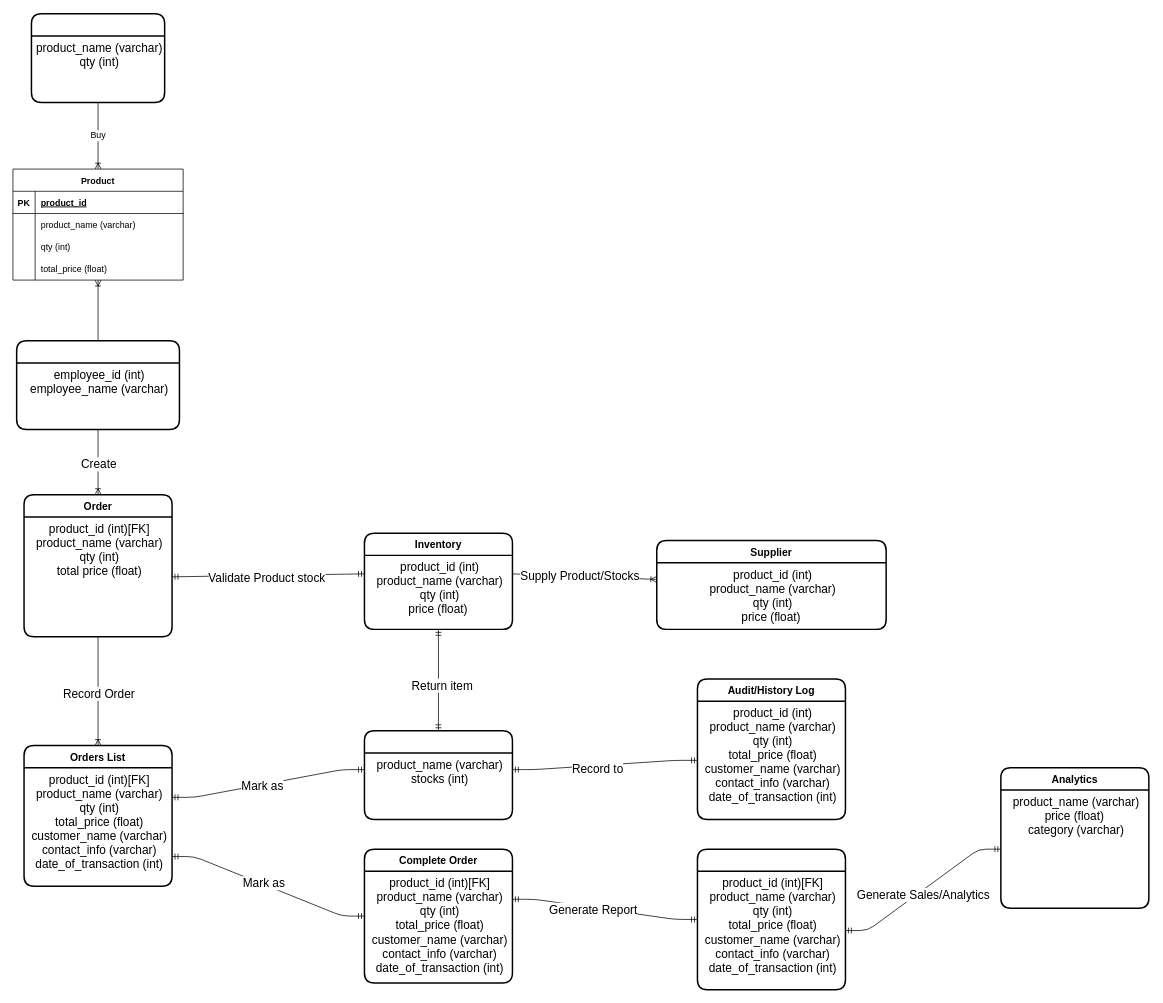
Some shapes in this 1163 by 1003 pixel diagram are drawn without their labels. Here are the shapes that lost their labels. From the top down, the box of each, then its label:
(30, 13, 165, 103): Customer
(16, 340, 180, 430): Authorized Employee
(363, 730, 513, 820): Delete Order
(696, 848, 846, 990): Report/Invoice
